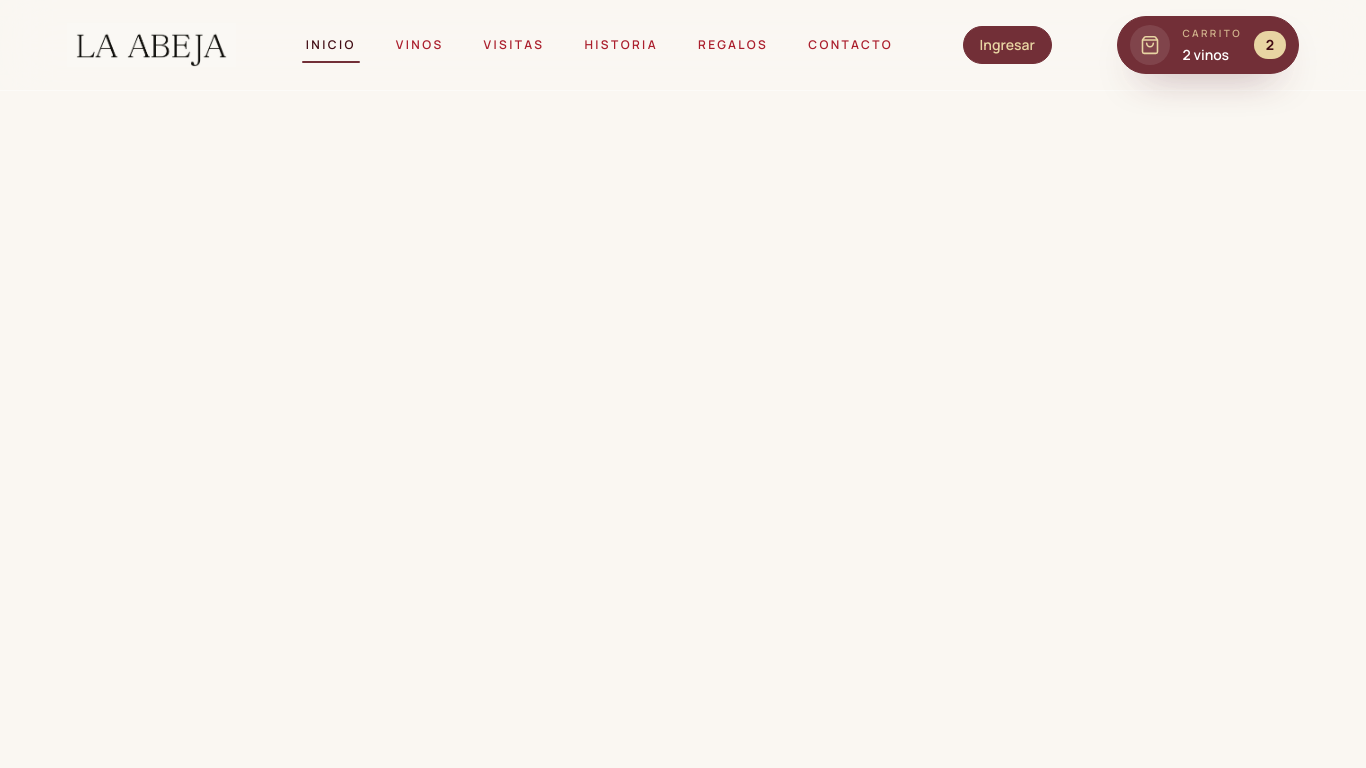
Test: Navbar › opens a side drawer preview when the cart button is pressed
The width and height of the screenshot is (1366, 768).
Step 1. Click the button with test id "cart-count" → coordinates (1208, 45), box top-left (1117, 16), bottom-right (1299, 74)
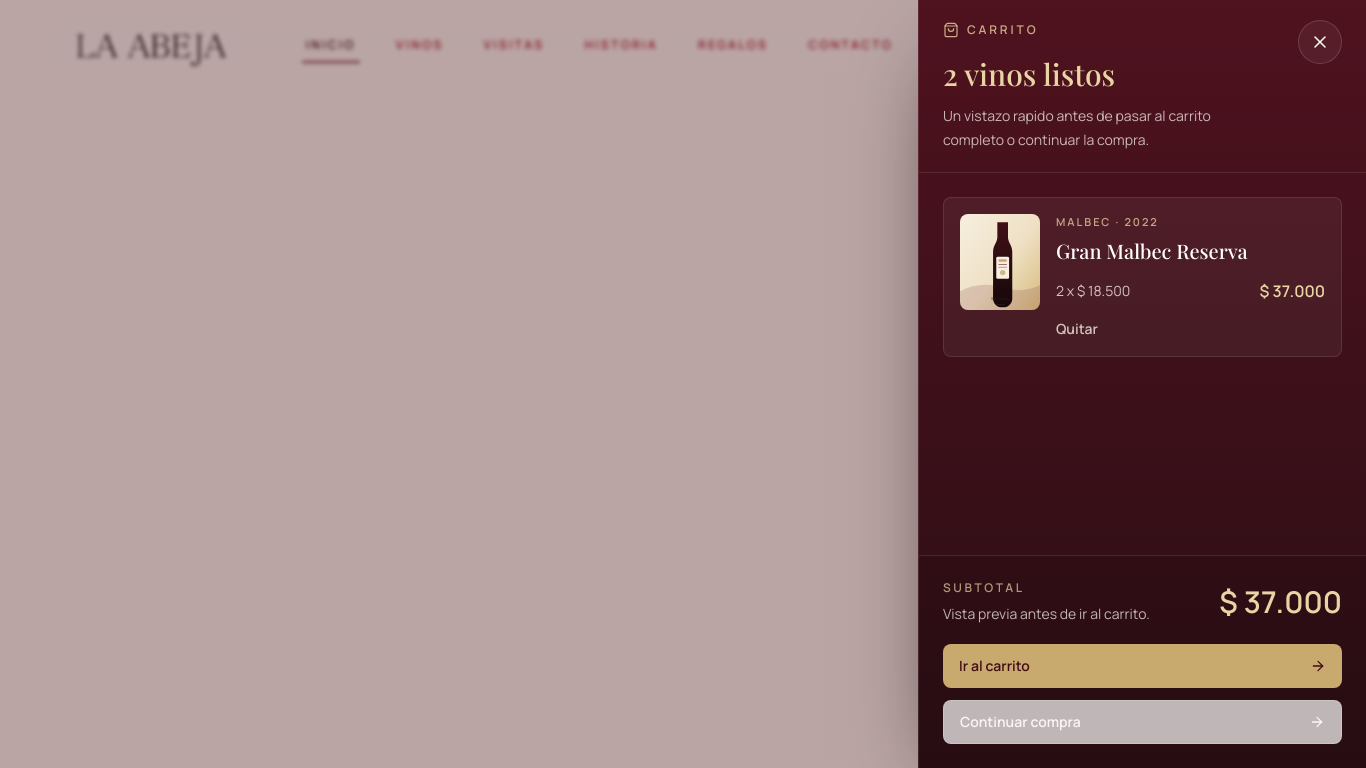
Check: the element named "vista previa del carrito" is shown, box top-left (918, 0), bottom-right (1365, 767)
Check: the link "Ir al carrito" is shown, box top-left (943, 644), bottom-right (1342, 688)
Check: the heading "Gran Malbec Reserva" is shown, box top-left (1056, 236), bottom-right (1248, 264)
